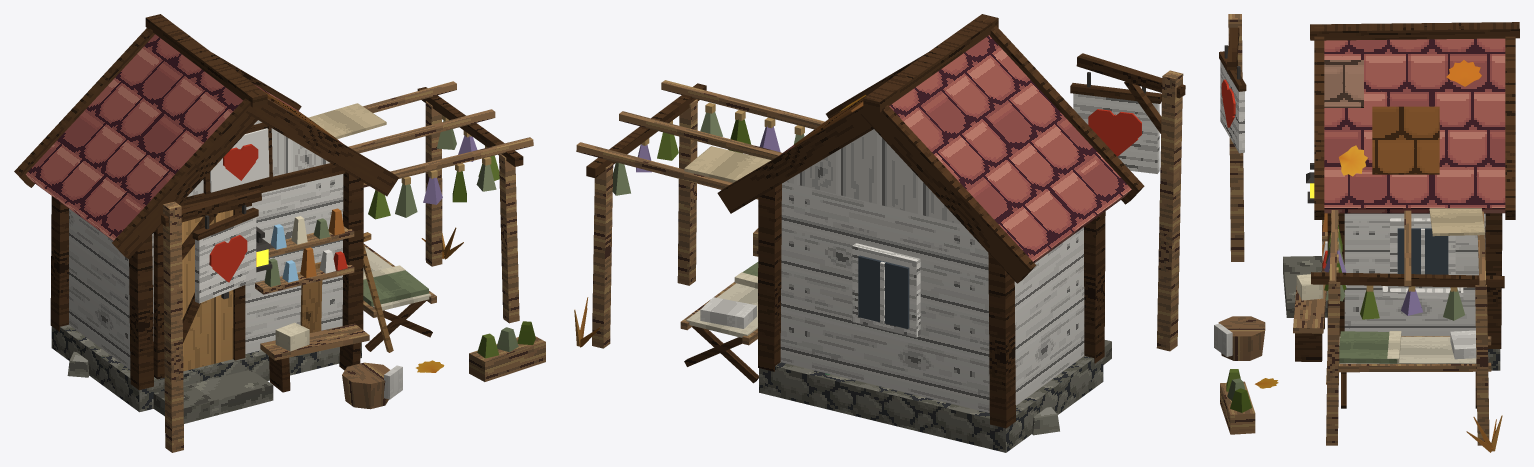
The model's file is clinic.glb.
The picture shows the model from 3 angles, left to right: view 1: azimuth 30°, elevation 25°; view 2: azimuth 150°, elevation 25°; view 3: azimuth 270°, elevation 25°; orthographic projection. The views are drawn at different scales.
Visible parts, largest first — view 1: clinic, sway_sign; view 2: clinic, sway_sign; view 3: clinic, sway_sign.
Boxes of the visible parts, box(x1,y1,x2,y2) form: clinic: box(14, 14, 545, 452); sway_sign: box(192, 205, 258, 303); clinic: box(574, 14, 1185, 452); sway_sign: box(1070, 72, 1161, 173); clinic: box(1214, 14, 1519, 452); sway_sign: box(1219, 45, 1246, 153).
Size of the model in its own units: 5.71 by 3.85 by 3.63.
39 materials, 21 textured.
